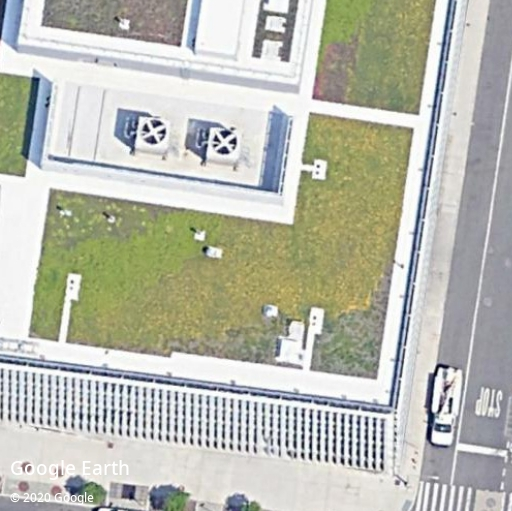Vent: (141, 119, 167, 145), (212, 130, 238, 155)
